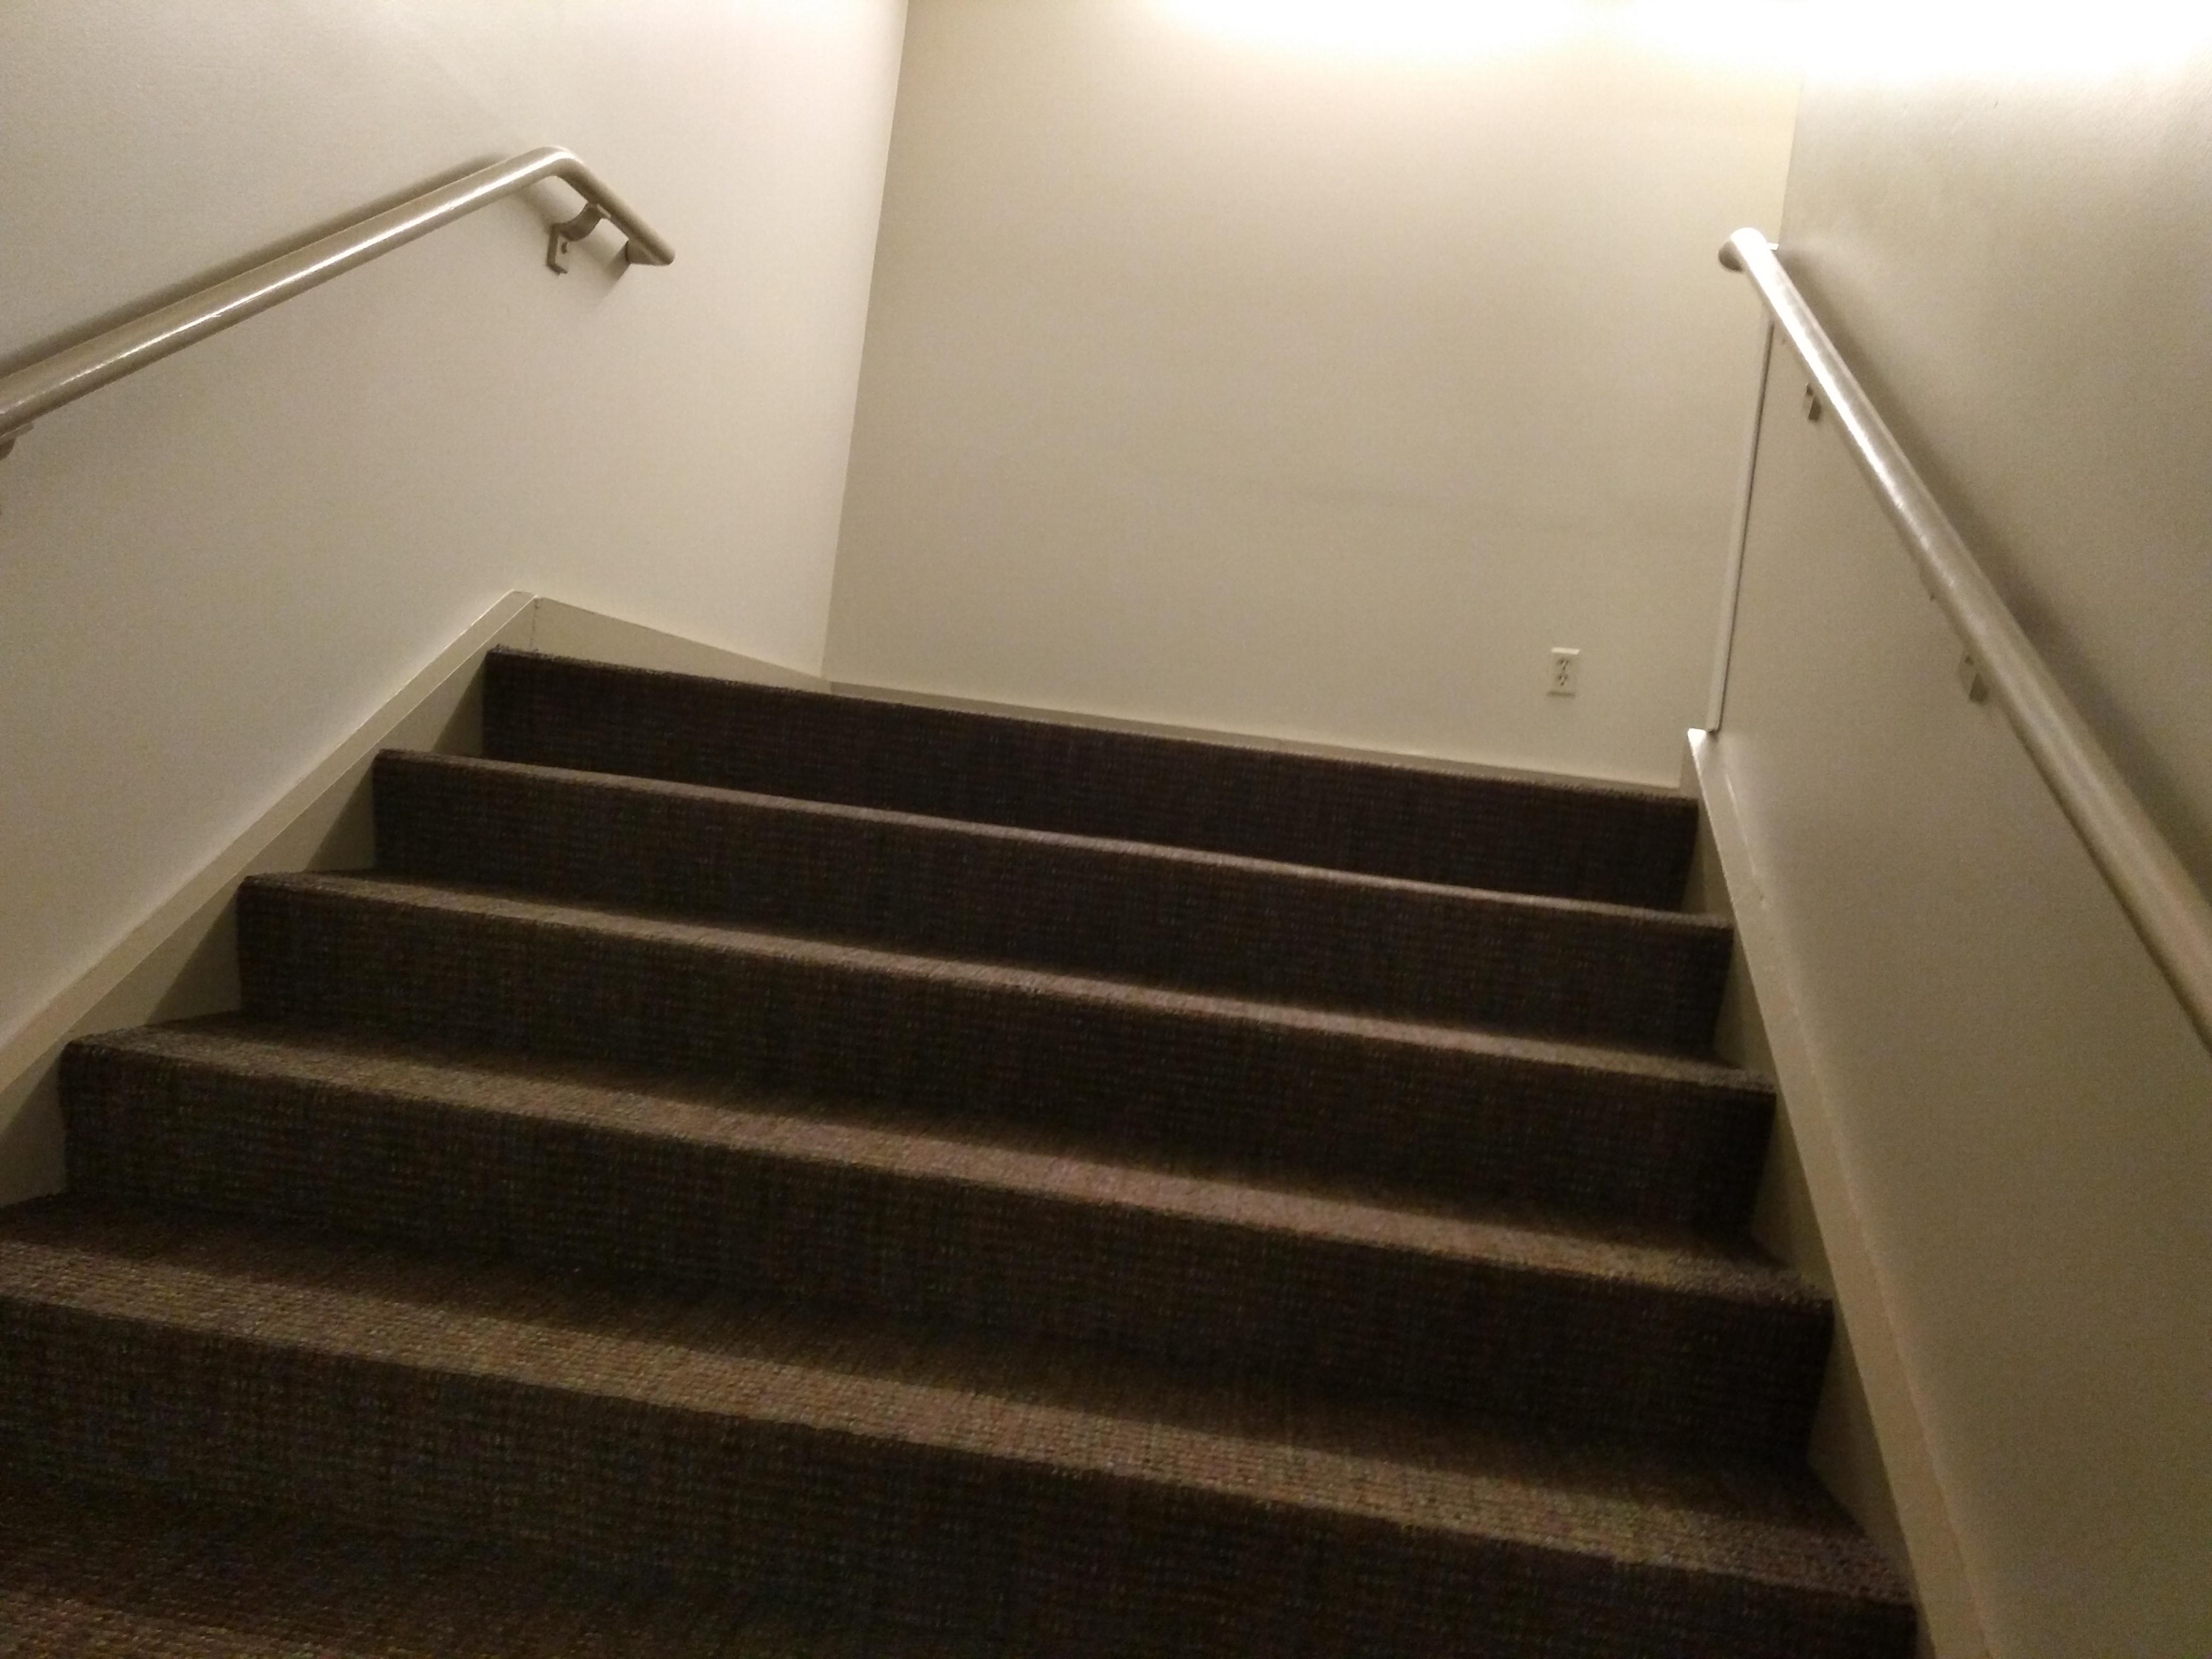stairs_up: (3, 633, 1921, 1619)
